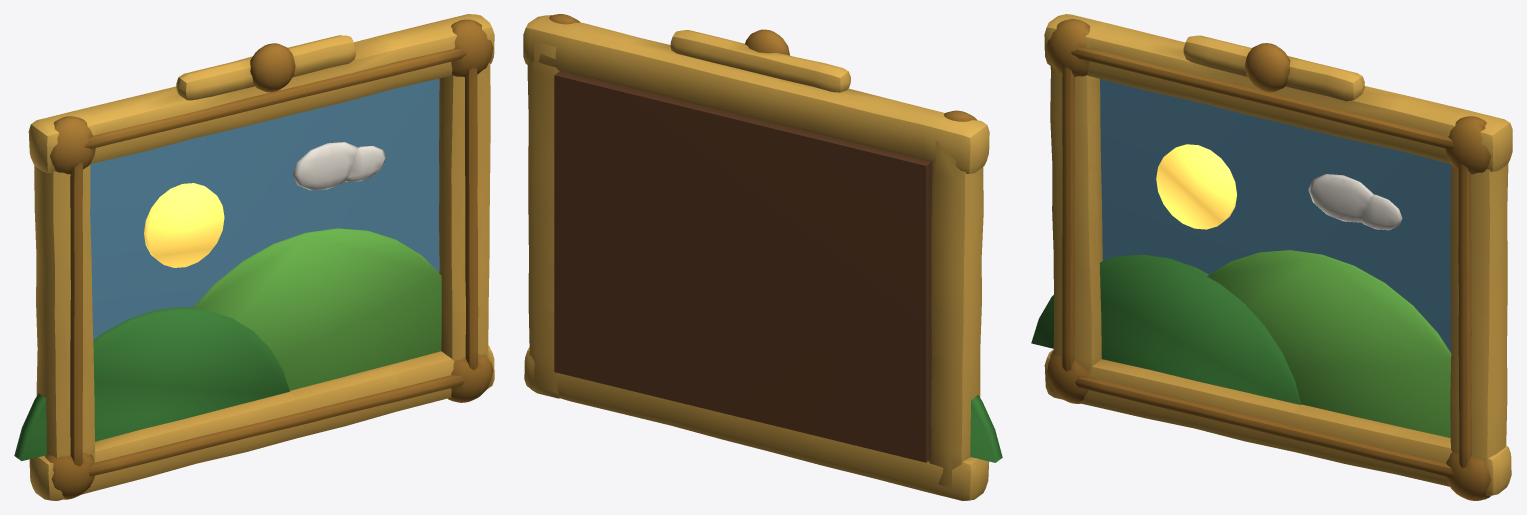
File: col_canvas.glb
3 renders of one model, left to right at view 1: azimuth 30°, elevation 25°; view 2: azimuth 150°, elevation 25°; view 3: azimuth 330°, elevation 25°, orthographic.
Visible parts, largest first — view 1: col_canvas; view 2: col_canvas; view 3: col_canvas.
Boxes of the visible parts, box(x1,y1,x2,y2) form: col_canvas: box(14, 14, 494, 500); col_canvas: box(523, 14, 1002, 500); col_canvas: box(1031, 14, 1512, 500).
Size of the model in its own units: 1.08 by 0.9 by 0.1403.
